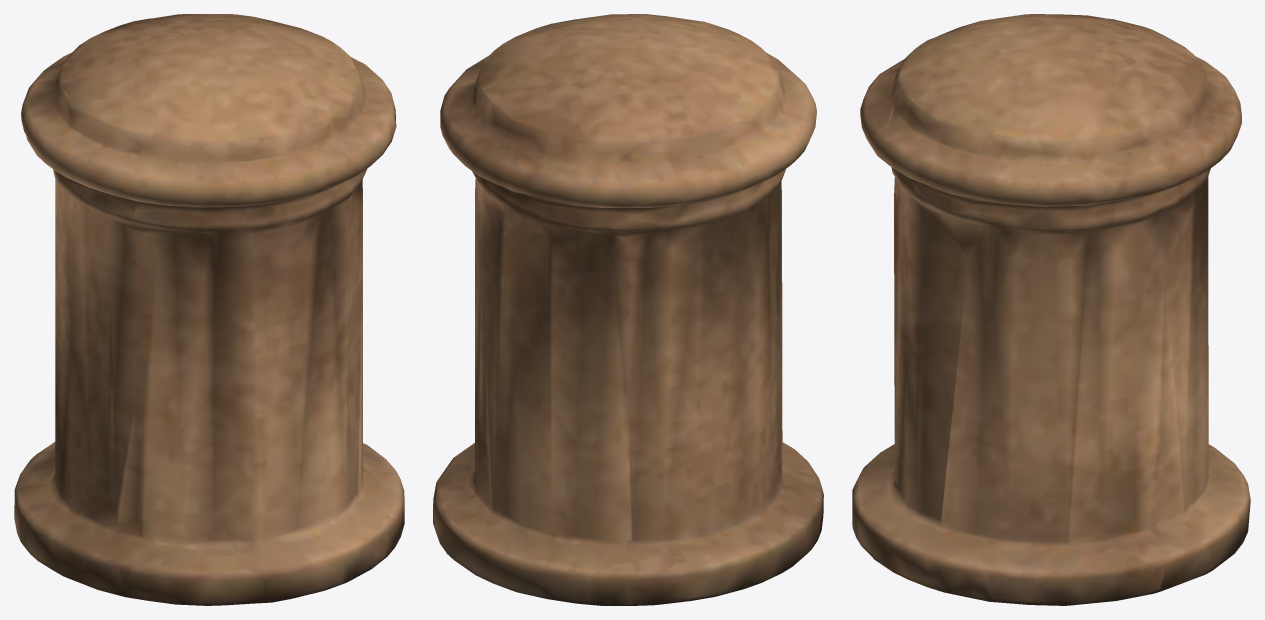
File: worn-sandstone-bollard-v001.glb
3 views of the same model, side by side, from view 1: azimuth 30°, elevation 25°; view 2: azimuth 150°, elevation 25°; view 3: azimuth 270°, elevation 25° (orthographic).
Visible parts, largest first — view 1: worn-sandstone-bollard; view 2: worn-sandstone-bollard; view 3: worn-sandstone-bollard.
Part boxes in pixels (x1,y1,x2,y2): worn-sandstone-bollard: (14,14,404,605); worn-sandstone-bollard: (433,14,823,605); worn-sandstone-bollard: (852,14,1250,605).
Bounding box in the file's own units: 0.5955 × 0.8089 × 0.61.
1 material, 1 textured.
